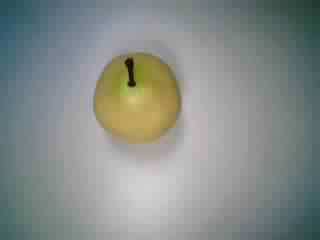pear: (80, 44, 185, 147)
